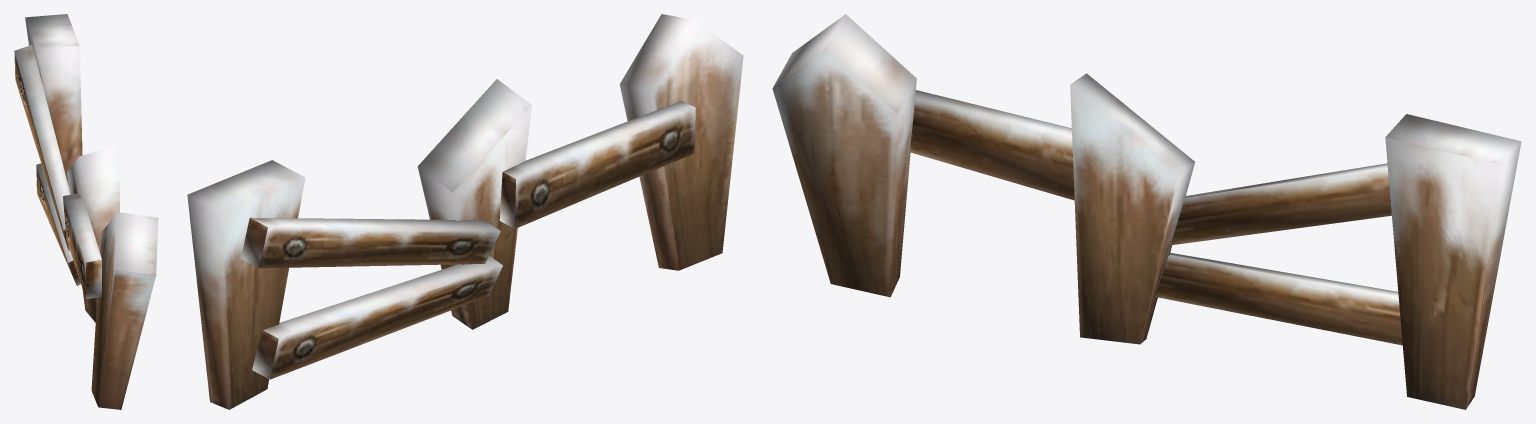
Rendered from SM_Enclosure_23.fbx.
3 renders of one model, left to right at view 1: azimuth 30°, elevation 25°; view 2: azimuth 150°, elevation 25°; view 3: azimuth 270°, elevation 25°, orthographic. The views are drawn at different scales.
Parts seen in each view (by area): view 1: SM_Enclosure_23; view 2: SM_Enclosure_23; view 3: SM_Enclosure_23.
Boxes of the visible parts, bbox=[...] form: SM_Enclosure_23: bbox=[14, 14, 158, 409]; SM_Enclosure_23: bbox=[187, 14, 743, 409]; SM_Enclosure_23: bbox=[772, 14, 1521, 409].
Size of the model in its own units: 1.19 by 1.09 by 2.69.
